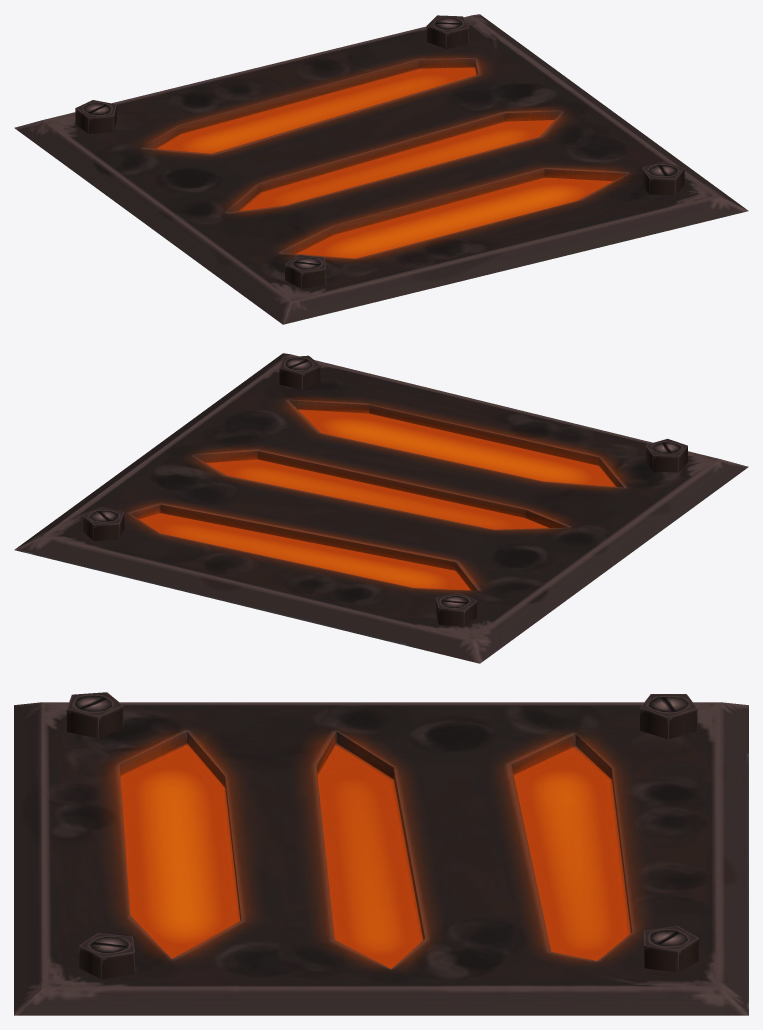
Rendered from fire_rooster.FBX.
The picture shows the model from 3 angles, top to bottom: view 1: azimuth 30°, elevation 25°; view 2: azimuth 150°, elevation 25°; view 3: azimuth 270°, elevation 25°; orthographic projection. The views are drawn at different scales.
Parts seen in each view (by area): view 1: fire_pit, lava; view 2: fire_pit, lava; view 3: fire_pit, lava.
Part boxes in pixels (bbox=[...]): fire_pit: bbox=[14, 14, 748, 324]; lava: bbox=[156, 67, 612, 258]; fire_pit: bbox=[14, 353, 748, 663]; lava: bbox=[139, 409, 616, 590]; fire_pit: bbox=[14, 692, 748, 1015]; lava: bbox=[120, 743, 630, 968].
Bounding box in the file's own units: 30 × 1.67 × 30.
